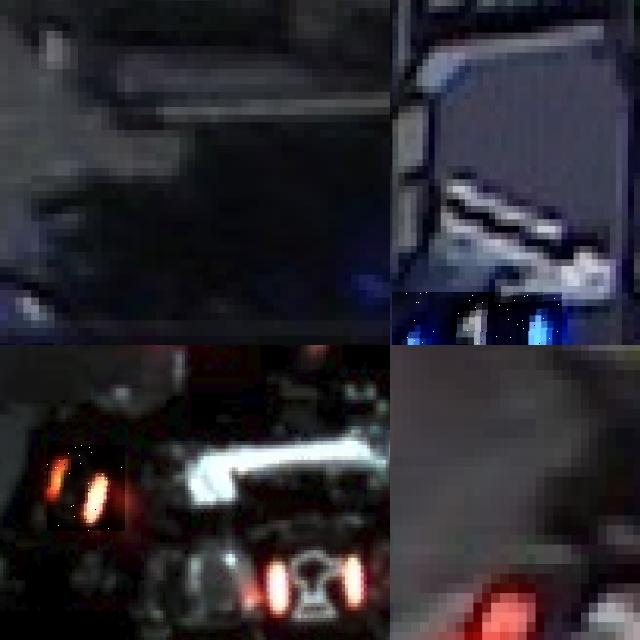B1: (392, 292, 561, 345)
R5: (455, 534, 640, 640)
Rs: (266, 550, 361, 633), (47, 445, 125, 531)
